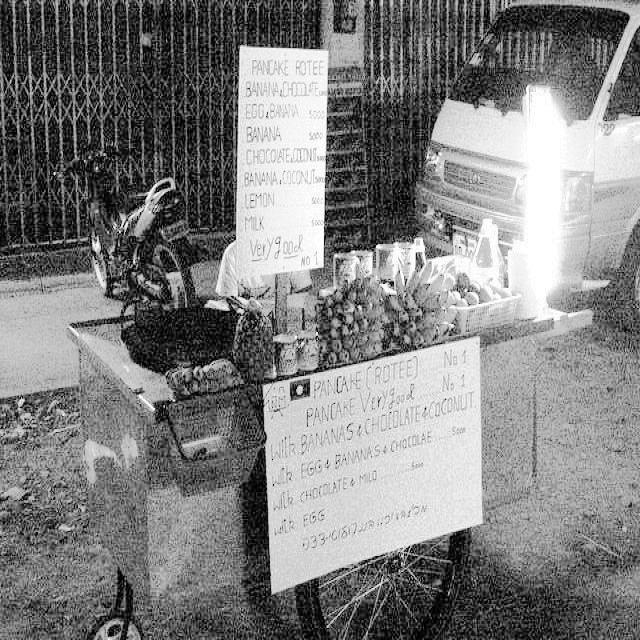Car: (405, 0, 640, 321)
Motorcycle: (50, 121, 204, 315)
